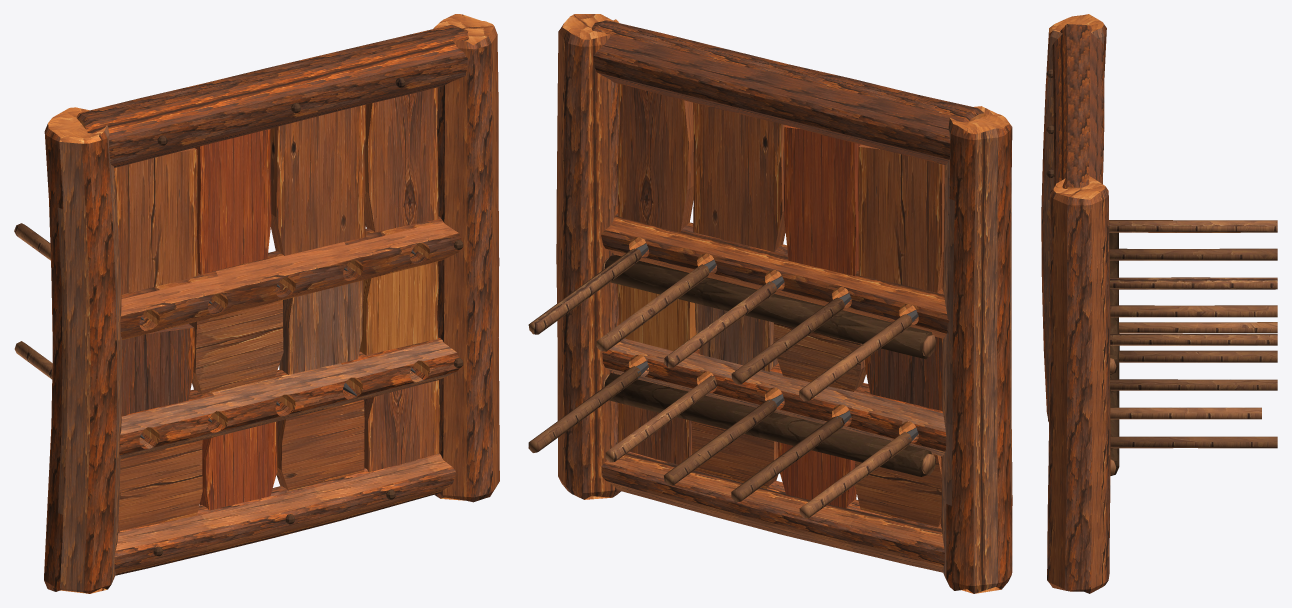
Rendered from trap_spear_wall.glb.
3 views of the same model, side by side, from view 1: azimuth 30°, elevation 25°; view 2: azimuth 150°, elevation 25°; view 3: azimuth 270°, elevation 25° (orthographic). The views are drawn at different scales.
Visible parts, largest first — view 1: frame, spears; view 2: frame, spears; view 3: frame, spears.
Boxes of the visible parts, bbox=[...] form: frame: bbox=[44, 14, 499, 593]; spears: bbox=[14, 220, 415, 438]; frame: bbox=[556, 14, 1012, 593]; spears: bbox=[528, 243, 918, 518]; frame: bbox=[1041, 14, 1119, 593]; spears: bbox=[1048, 220, 1277, 448].
Bounding box in the file's own units: 1.98 × 1.98 × 1.05.
Materials: 24 (23 with a texture image).
